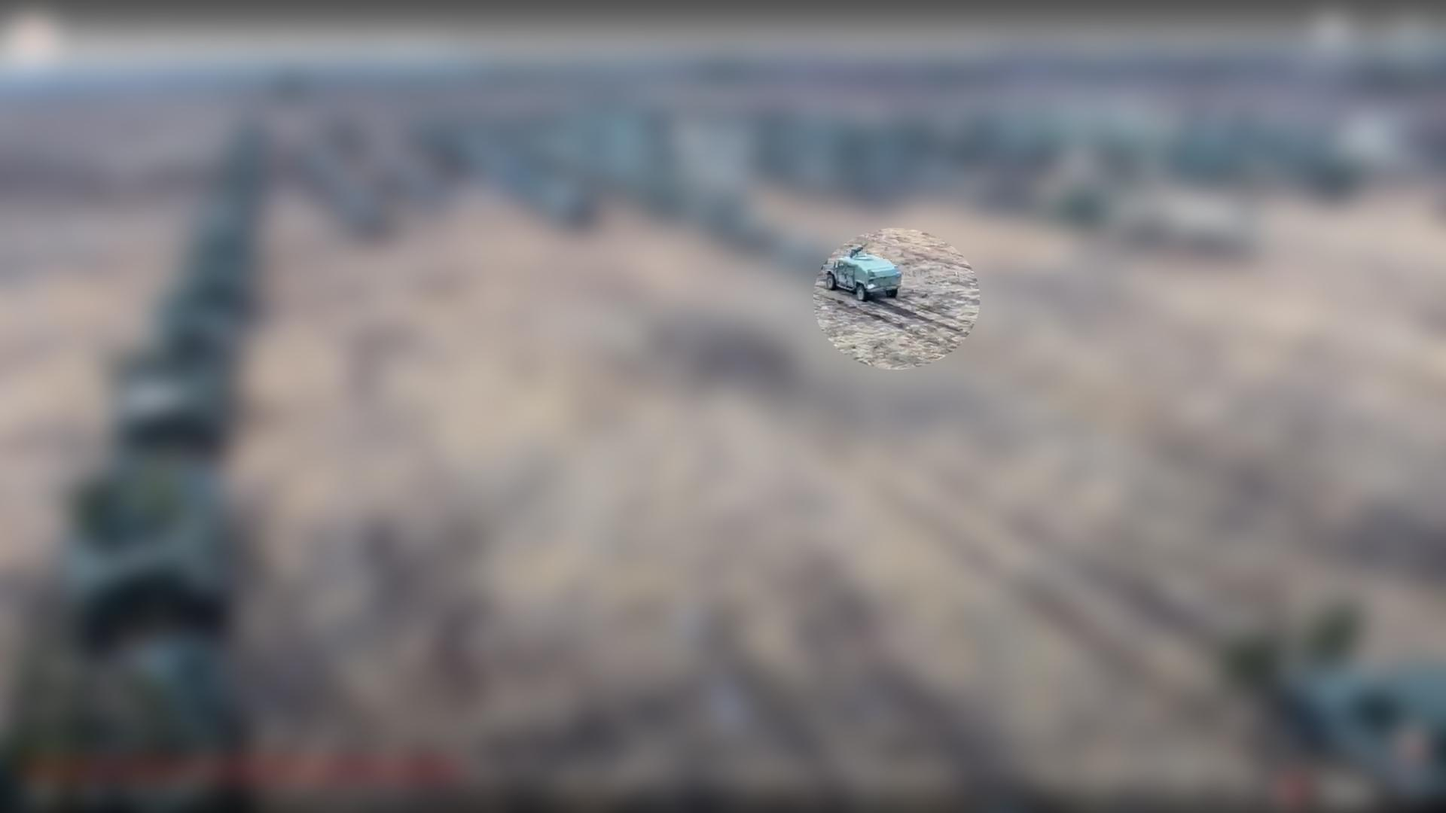armored_car: (819, 245, 904, 302)
